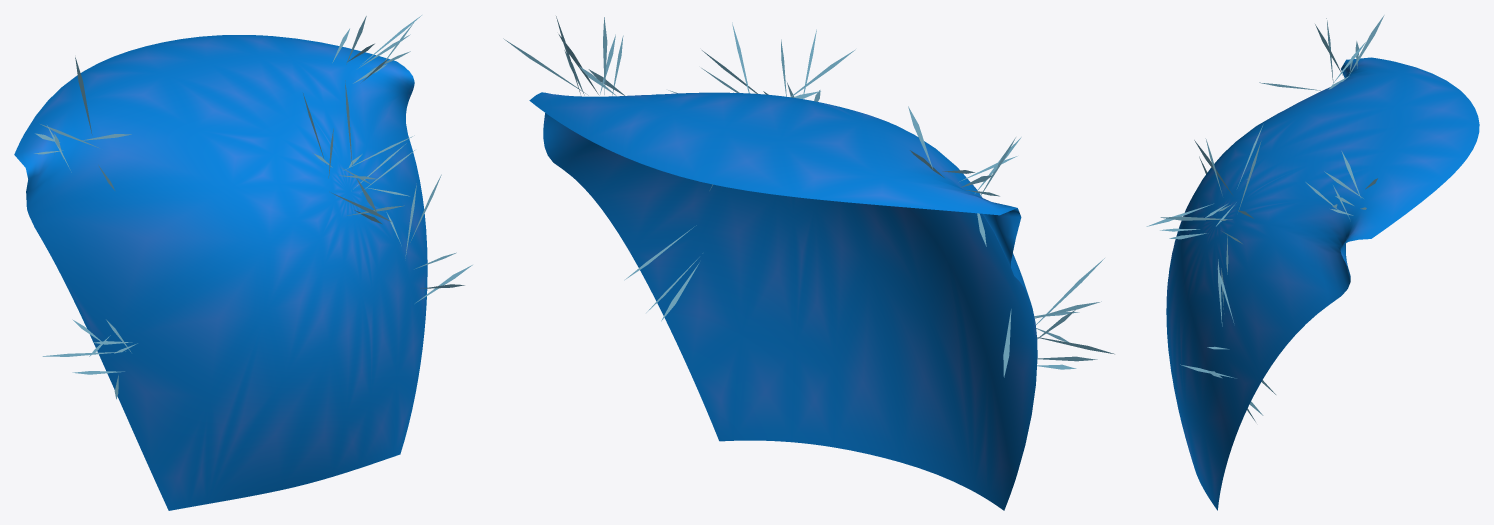
Rendered from SM_Mk2_CockpitShield.fbx.
3 views of the same model, side by side, from view 1: azimuth 30°, elevation 25°; view 2: azimuth 150°, elevation 25°; view 3: azimuth 270°, elevation 25° (orthographic). The views are drawn at different scales.
Visible parts, largest first — view 1: SM_Mk2_CockpitShield; view 2: SM_Mk2_CockpitShield; view 3: SM_Mk2_CockpitShield.
Boxes of the visible parts, bbox=[...] form: SM_Mk2_CockpitShield: bbox=[14, 15, 472, 510]; SM_Mk2_CockpitShield: bbox=[503, 16, 1114, 510]; SM_Mk2_CockpitShield: bbox=[1146, 15, 1479, 510].
Bounding box in the file's own units: 104 × 70.44 × 89.19.
